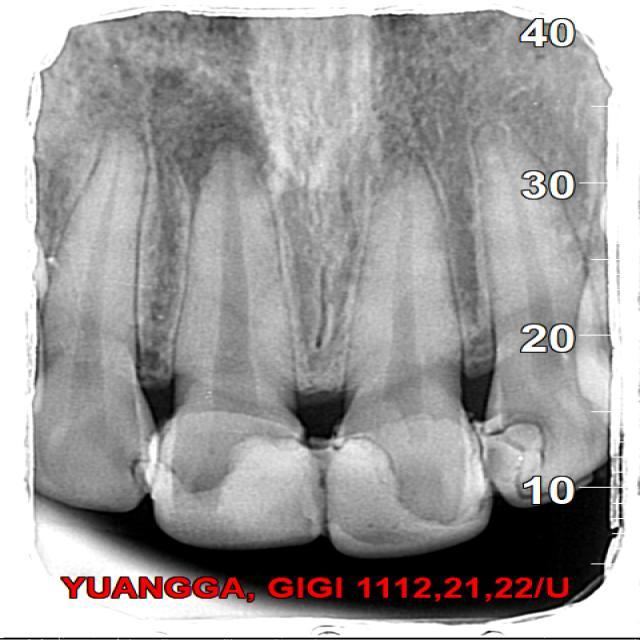individual-tooth-8tto: (316, 148, 504, 546), (145, 147, 330, 549)
